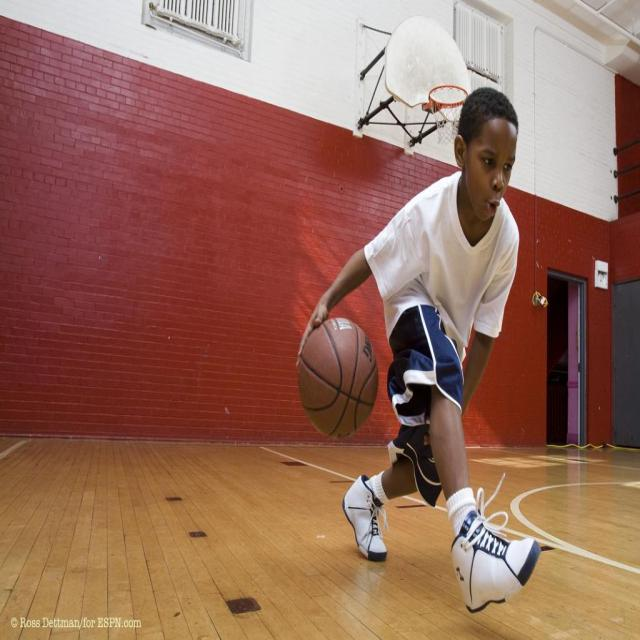Face: (470, 114, 521, 227)
